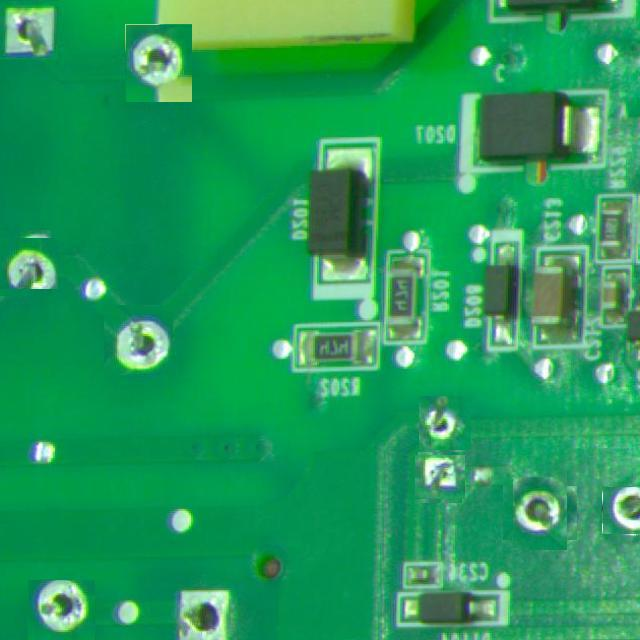lack_of_part: (125, 24, 192, 102), (104, 306, 173, 374), (172, 577, 244, 640), (28, 579, 96, 640), (508, 481, 572, 545), (0, 0, 58, 58), (0, 234, 54, 292), (418, 397, 472, 450), (416, 454, 464, 501), (602, 486, 640, 534)
